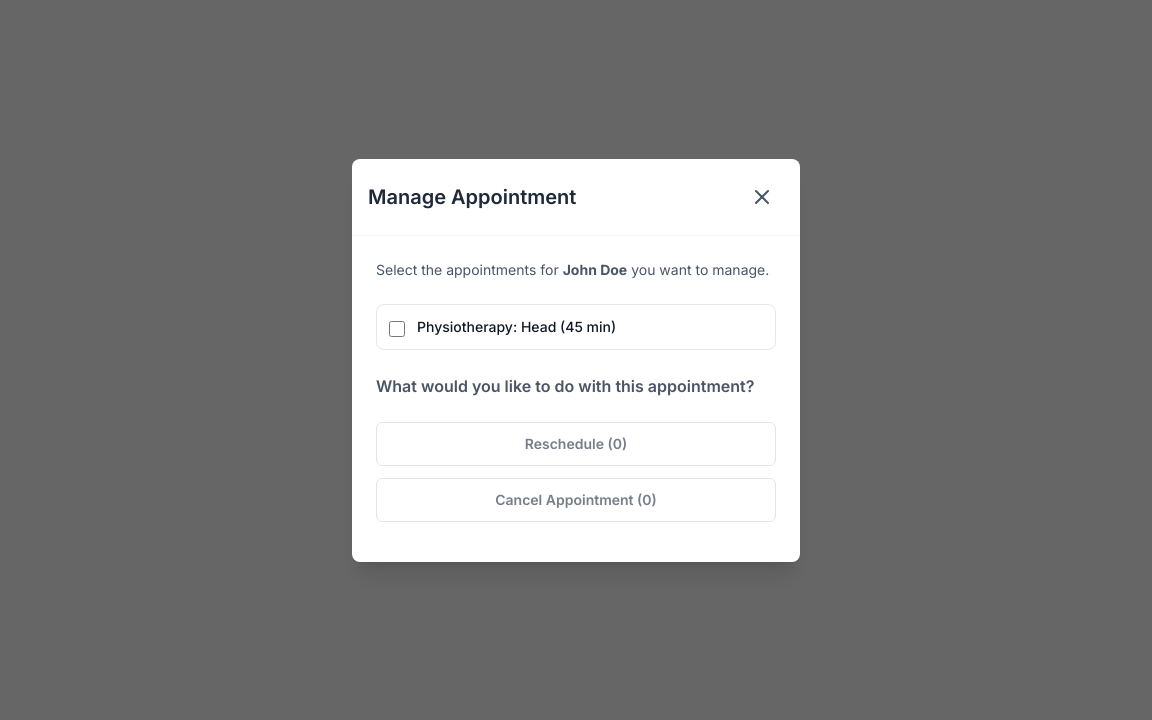
Test: ManageAppointmentsModal › should transition to cancel view when cancel button is clicked
Click the checkbox.
click(397, 328)  # box [389,320,405,336]
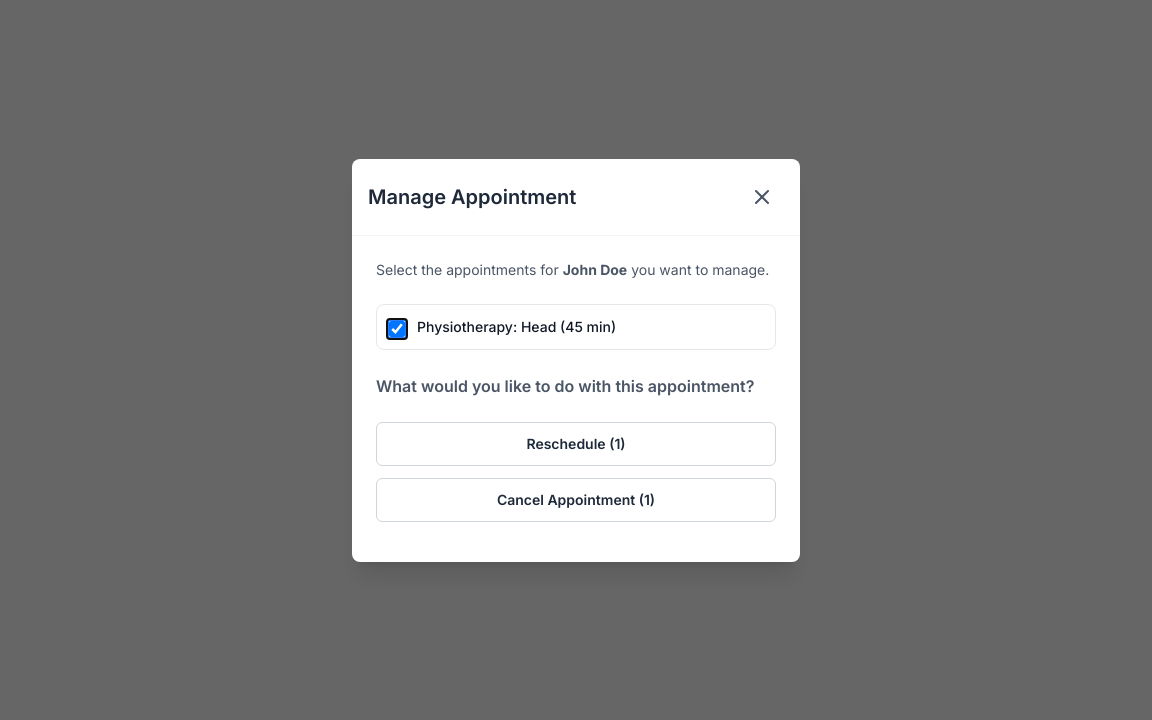
Click the button "Cancel Appointment (1)".
click(576, 500)  # box [376,478,776,522]
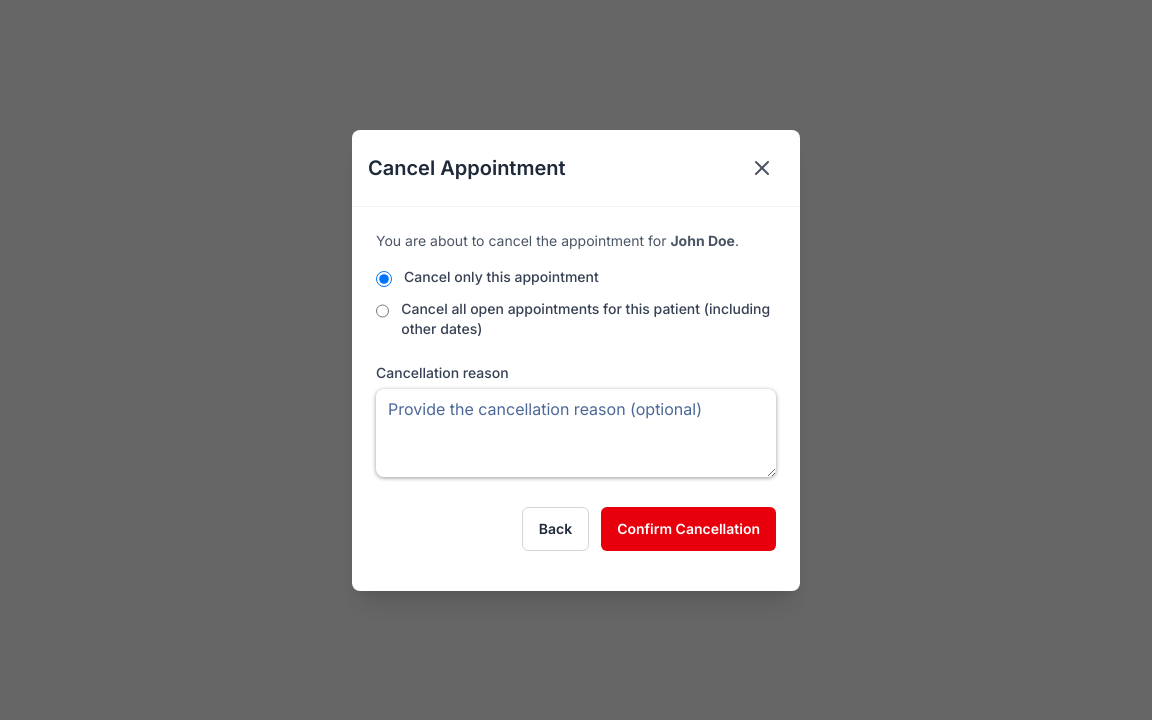
Expected: the heading "Cancel Appointment" is shown, [368,154,566,182]
Expected: the text "Cancellation reason" is shown, [376,364,509,380]
